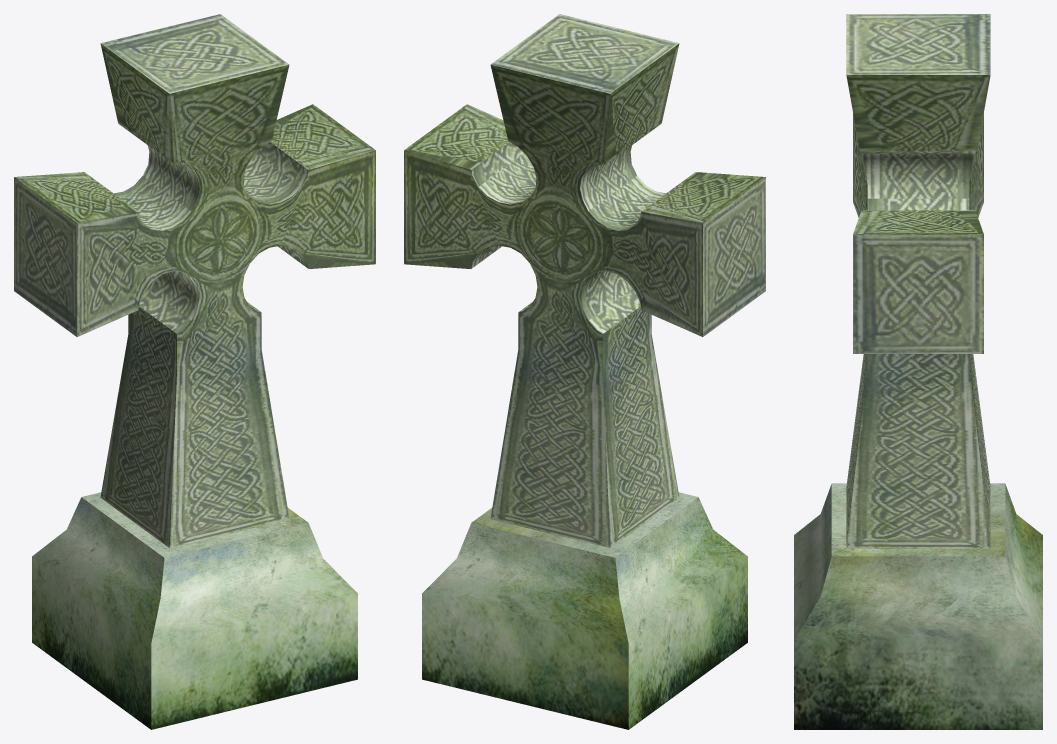
The model's file is gravecross.FBX.
The picture shows the model from 3 angles, left to right: view 1: azimuth 30°, elevation 25°; view 2: azimuth 150°, elevation 25°; view 3: azimuth 270°, elevation 25°; orthographic projection. The views are drawn at different scales.
Parts seen in each view (by area): view 1: Box01, Box03; view 2: Box01, Box03; view 3: Box01, Box03.
Boxes of the visible parts, x1,y1,x2,y2 form: Box01: [14, 14, 375, 548]; Box03: [32, 492, 357, 729]; Box01: [404, 14, 765, 548]; Box03: [422, 492, 747, 729]; Box01: [846, 14, 990, 548]; Box03: [794, 483, 1042, 729].
Bounding box in the file's own units: 565 × 391 × 1097.
1 material, 1 textured.
